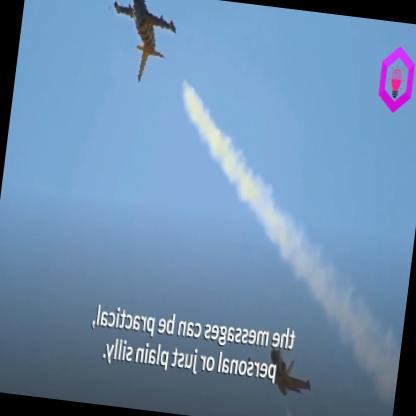plane: (87, 0, 185, 90)
